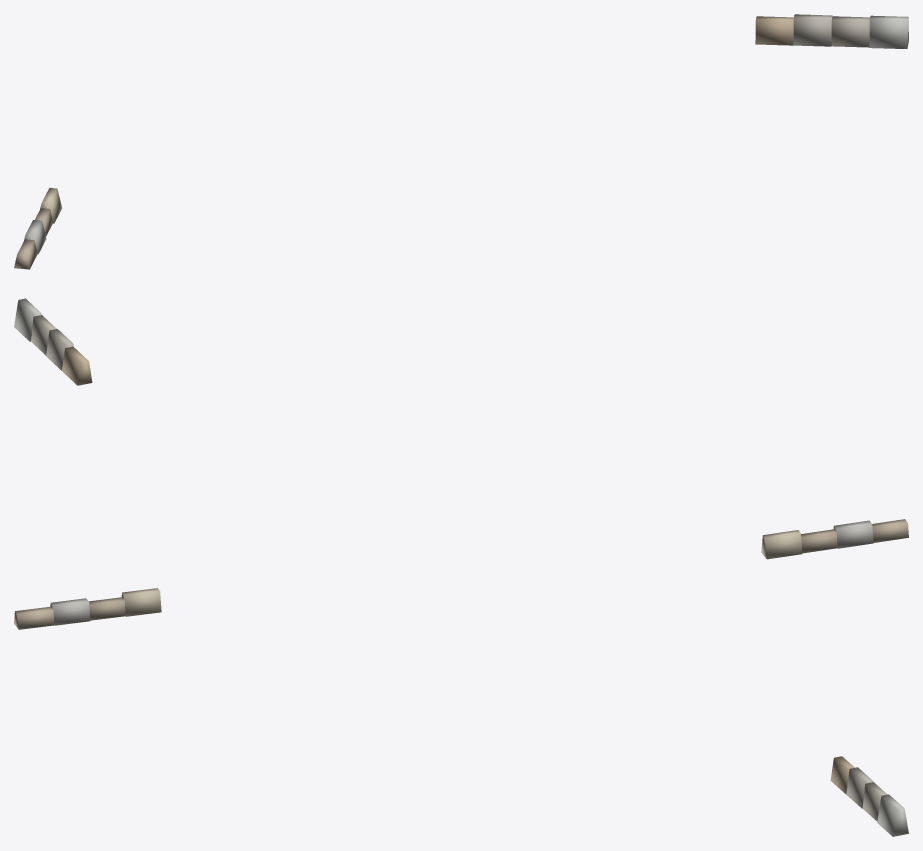
Rendered from farm_-37_-39_collision.glb.
The picture shows the model from 3 angles, top to bottom: view 1: azimuth 30°, elevation 25°; view 2: azimuth 150°, elevation 25°; view 3: azimuth 330°, elevation 25°; orthographic projection.
Visible parts, largest first — view 1: geometry_0; view 2: geometry_0; view 3: geometry_0.
Boxes of the visible parts, <box> form: geometry_0: <box>14,14,908,269</box>; geometry_0: <box>14,298,908,559</box>; geometry_0: <box>14,588,908,836</box>.
Bounding box in the file's own units: 42.91 × 1.3 × 5.14.
